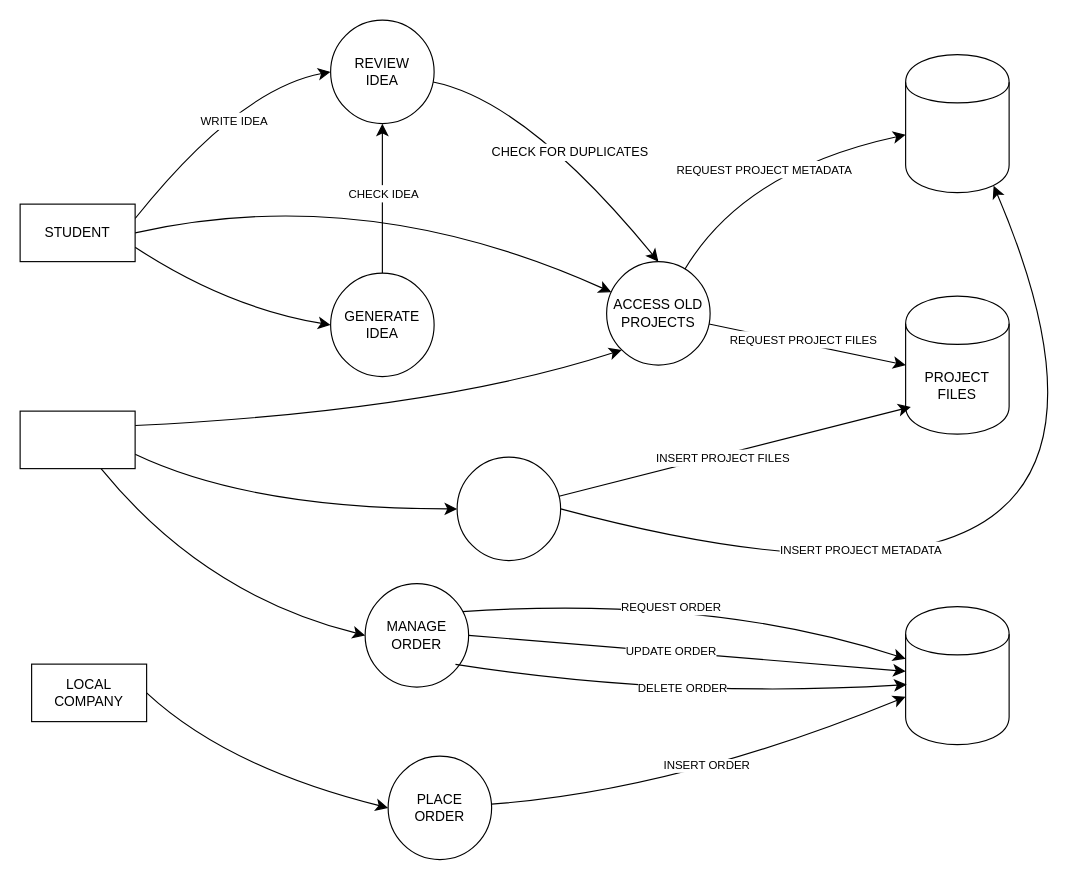
Some shapes in this 1068 by 880 pixel diagram are drawn without their labels. The centre of each missing label's shape, as x and y in pixels:
ADD TO PROJECT: the point at 508,508
APP MANAGER: the point at 77,439
ORDERS: the point at 956,675
PROJECTS METADATA: the point at 956,123
